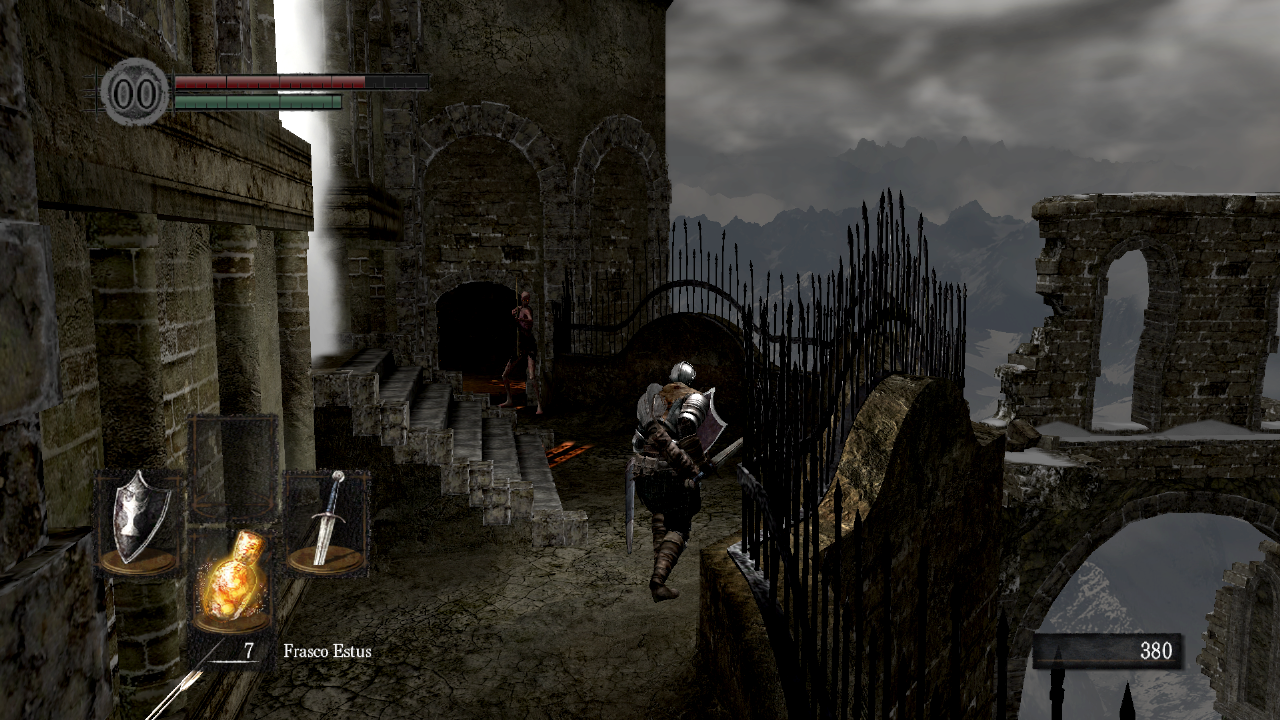hollow: (496, 277, 543, 415)
player: (626, 359, 744, 604)
